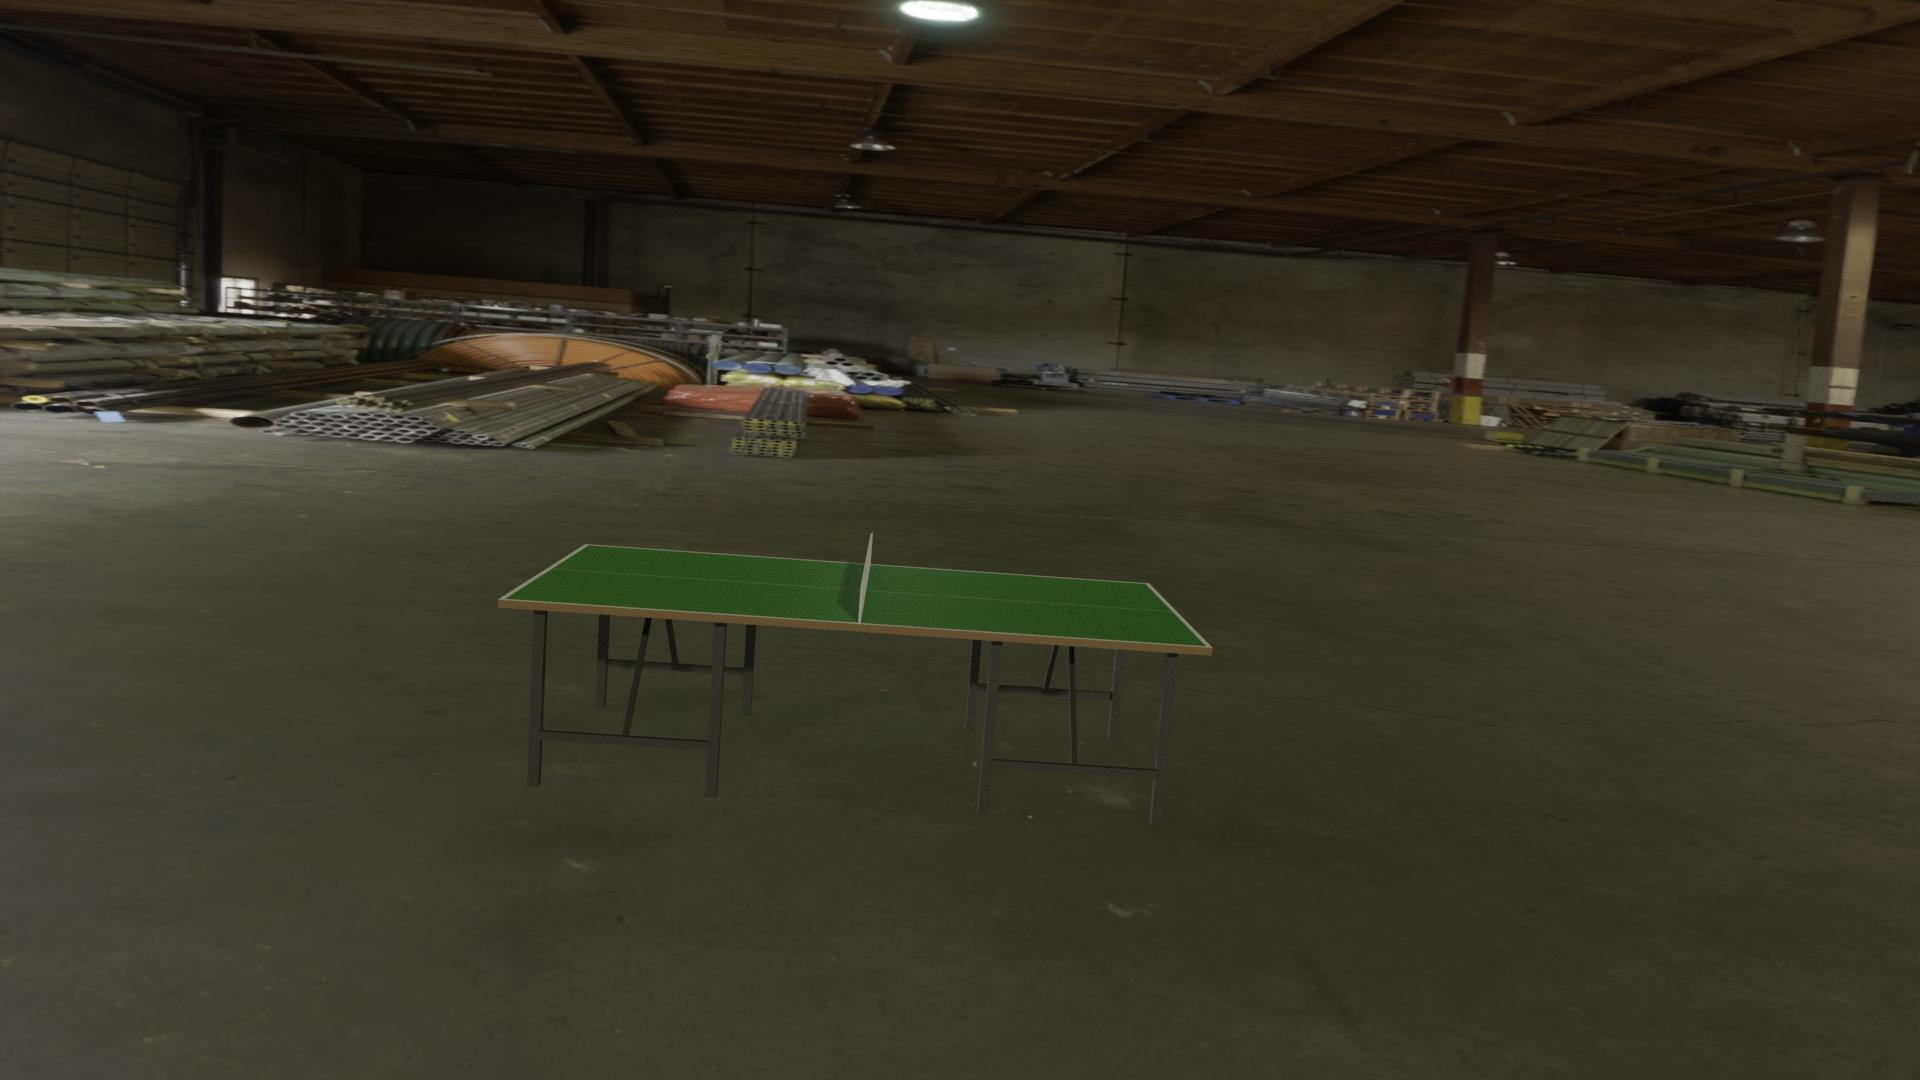table: (505, 545, 1207, 646)
